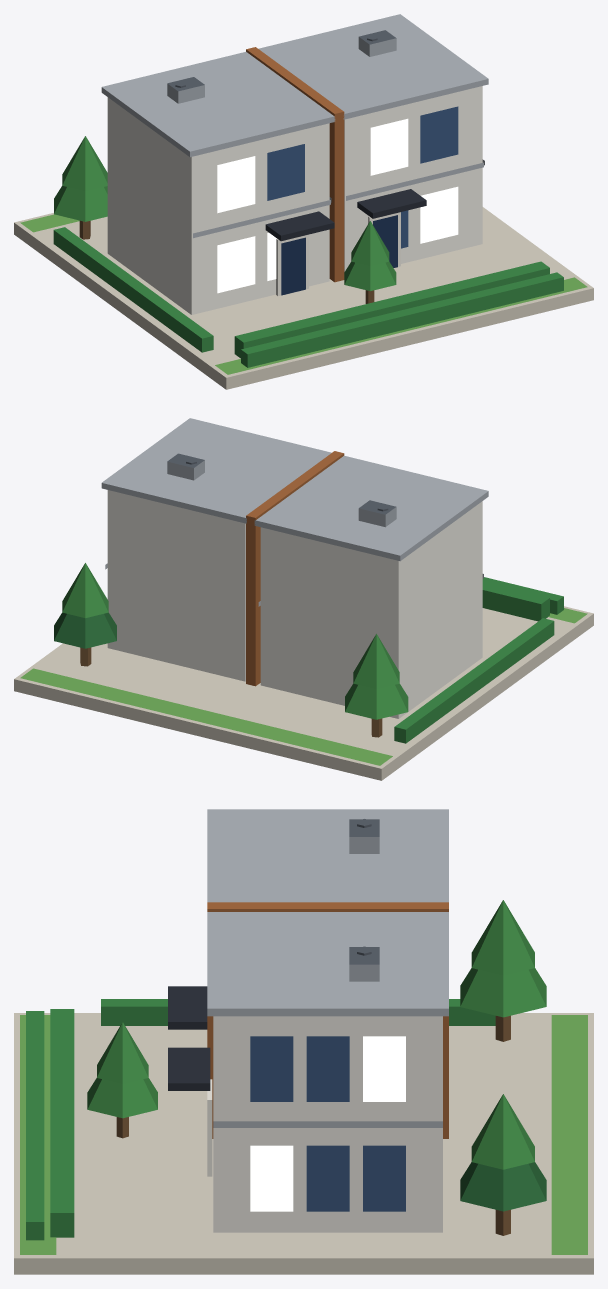
3 views of the same model, one above another, from view 1: azimuth 30°, elevation 25°; view 2: azimuth 150°, elevation 25°; view 3: azimuth 270°, elevation 25° (orthographic). The views are drawn at different scales.
Visible parts, largest first — view 1: b04; view 2: b04; view 3: b04.
Part boxes in pixels (x1,y1,x2,y2): b04: (14,14,593,389); b04: (14,418,593,780); b04: (14,809,593,1274).
Bounding box in the file's own units: 0.96 × 0.479 × 0.96.
